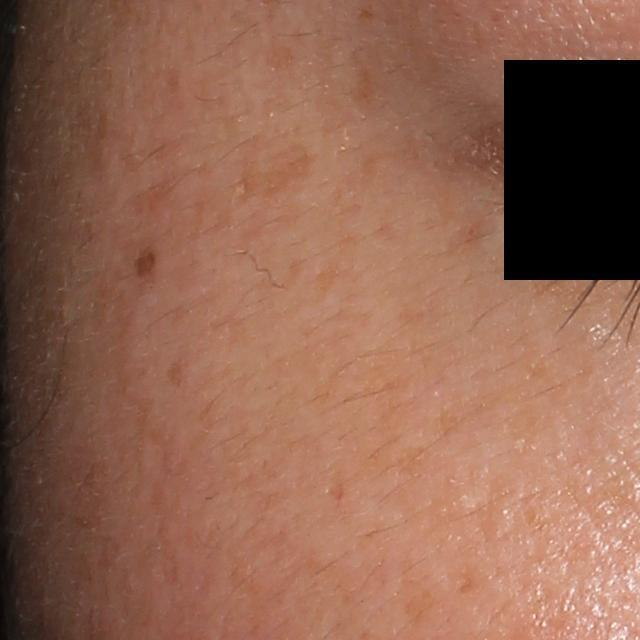melasma: (227, 136, 315, 216), (439, 203, 500, 264), (343, 56, 379, 128), (387, 442, 437, 489)
nevus: (127, 243, 165, 282)
